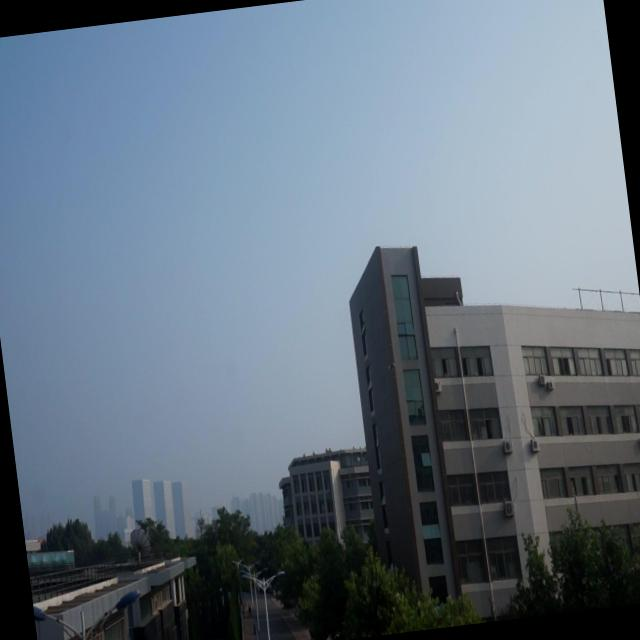drone: (383, 356, 398, 376)
